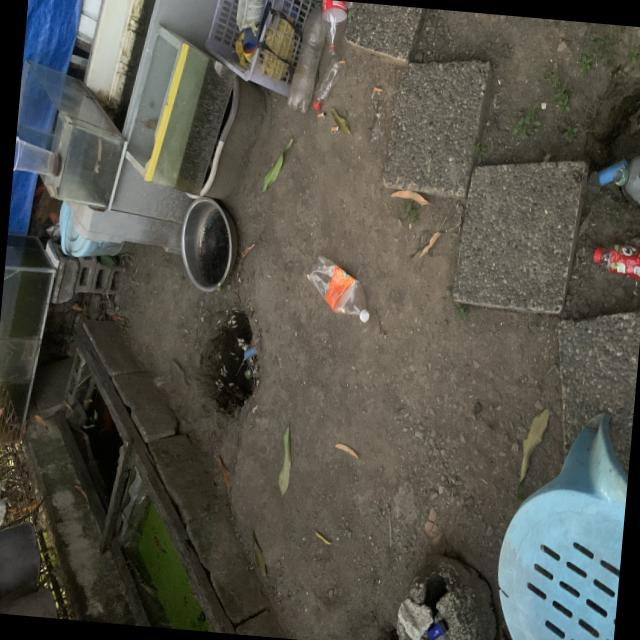Bottle: (305, 256, 370, 322)
